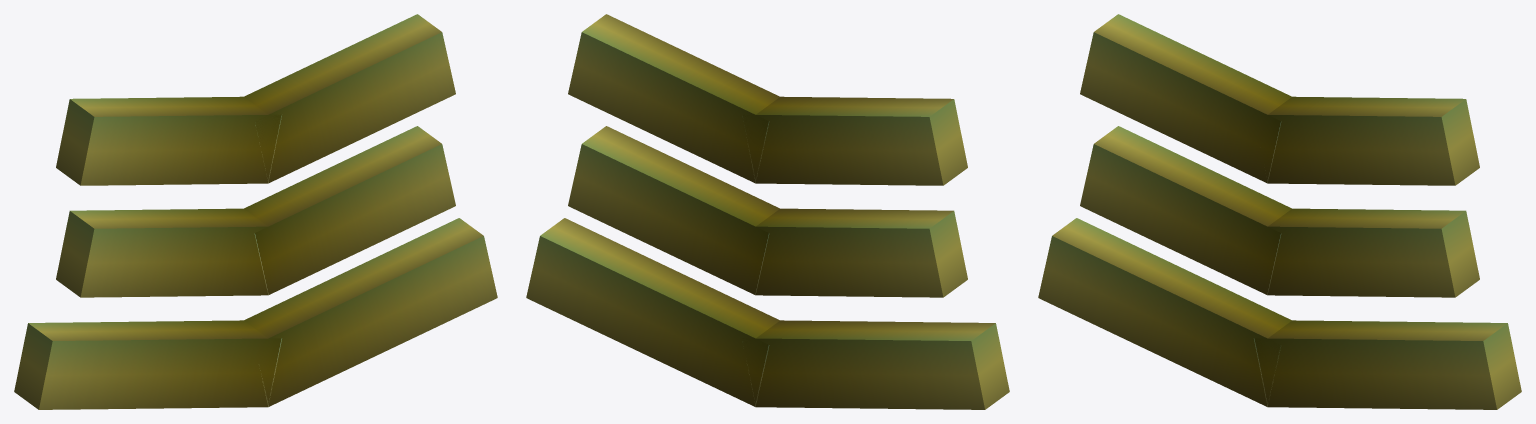
The model's file is ArrowSelect.fbx.
3 renders of one model, left to right at view 1: azimuth 30°, elevation 25°; view 2: azimuth 150°, elevation 25°; view 3: azimuth 330°, elevation 25°, orthographic.
Parts seen in each view (by area): view 1: cube_1, cube, cube_2, cube_4, cube_5, cube_3; view 2: cube, cube_1, cube_2, cube_5, cube_4, cube_3; view 3: cube_1, cube, cube_4, cube_3, cube_5, cube_2.
Boxes of the visible parts, left/top/right/bottom form: cube_1: left=14, top=320, right=281, bottom=409; cube: left=244, top=218, right=497, bottom=406; cube_2: left=244, top=126, right=455, bottom=295; cube_4: left=56, top=96, right=281, bottom=185; cube_5: left=244, top=14, right=455, bottom=183; cube_3: left=56, top=208, right=268, bottom=297; cube: left=526, top=218, right=779, bottom=406; cube_1: left=743, top=320, right=1009, bottom=409; cube_2: left=568, top=126, right=779, bottom=295; cube_5: left=568, top=14, right=779, bottom=183; cube_4: left=742, top=96, right=967, bottom=185; cube_3: left=755, top=208, right=967, bottom=297; cube_1: left=1038, top=218, right=1291, bottom=406; cube: left=1254, top=320, right=1521, bottom=409; cube_4: left=1080, top=14, right=1291, bottom=183; cube_3: left=1080, top=126, right=1291, bottom=295; cube_5: left=1264, top=96, right=1479, bottom=185; cube_2: left=1267, top=208, right=1479, bottom=297.
Size of the model in its own units: 2148 by 1488 by 200.
1 material, 1 textured.
